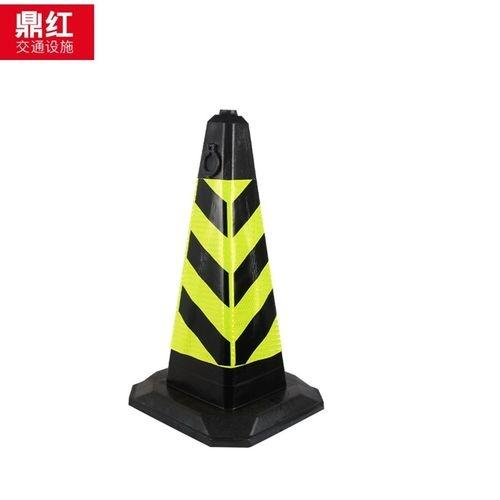cone_barrel: (137, 109, 314, 443)
